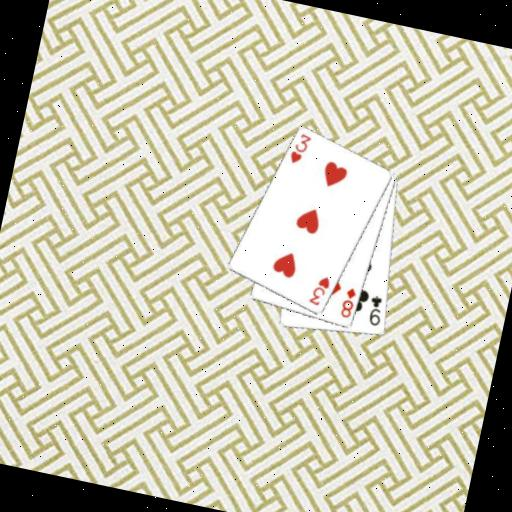3H: (286, 128, 314, 167), (305, 271, 333, 309)
8D: (336, 283, 358, 320)
9C: (362, 291, 387, 328)
